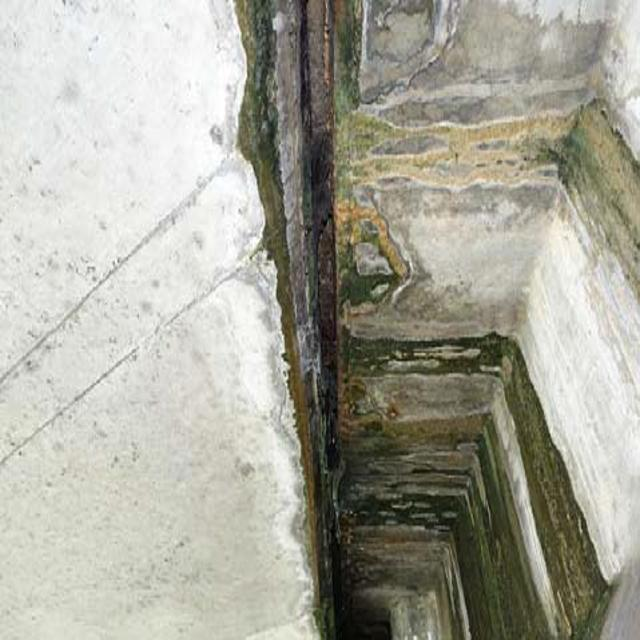leakage: (235, 25, 607, 640)
